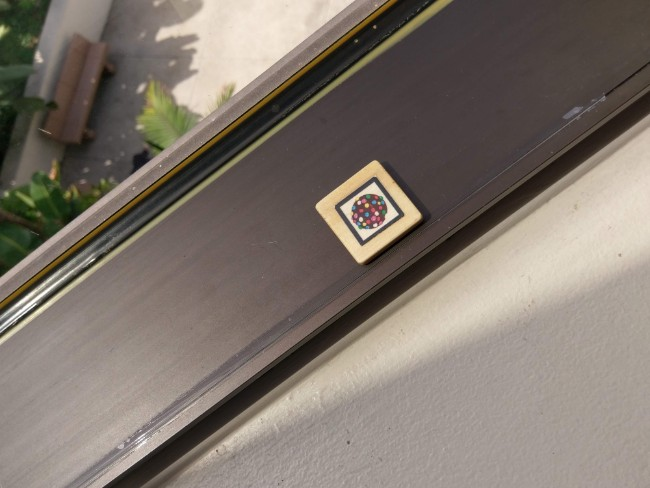cookie: (326, 173, 420, 252)
